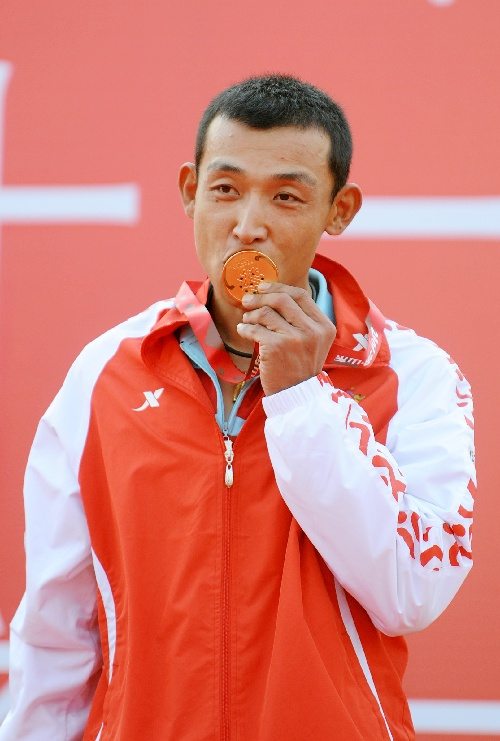face: (198, 108, 324, 311)
